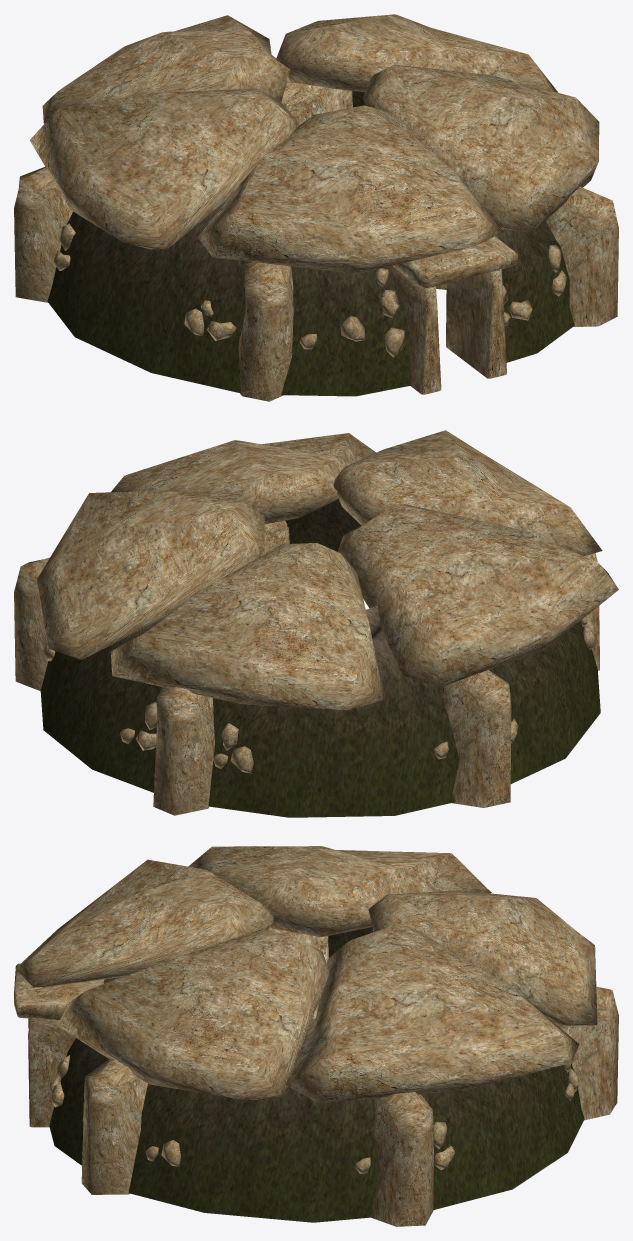
Rendered from thm_dant_large_hut_l1.fbx.
3 renders of one model, top to bottom at view 1: azimuth 30°, elevation 25°; view 2: azimuth 150°, elevation 25°; view 3: azimuth 270°, elevation 25°, orthographic. The views are drawn at different scales.
Visible parts, largest first — view 1: mesh_node; view 2: mesh_node; view 3: mesh_node.
Part boxes in pixels (x1,y1,x2,y2): mesh_node: (14, 14, 618, 401); mesh_node: (14, 430, 618, 817); mesh_node: (14, 846, 618, 1226).
Bounding box in the file's own units: 22.81 × 9.13 × 24.41.
